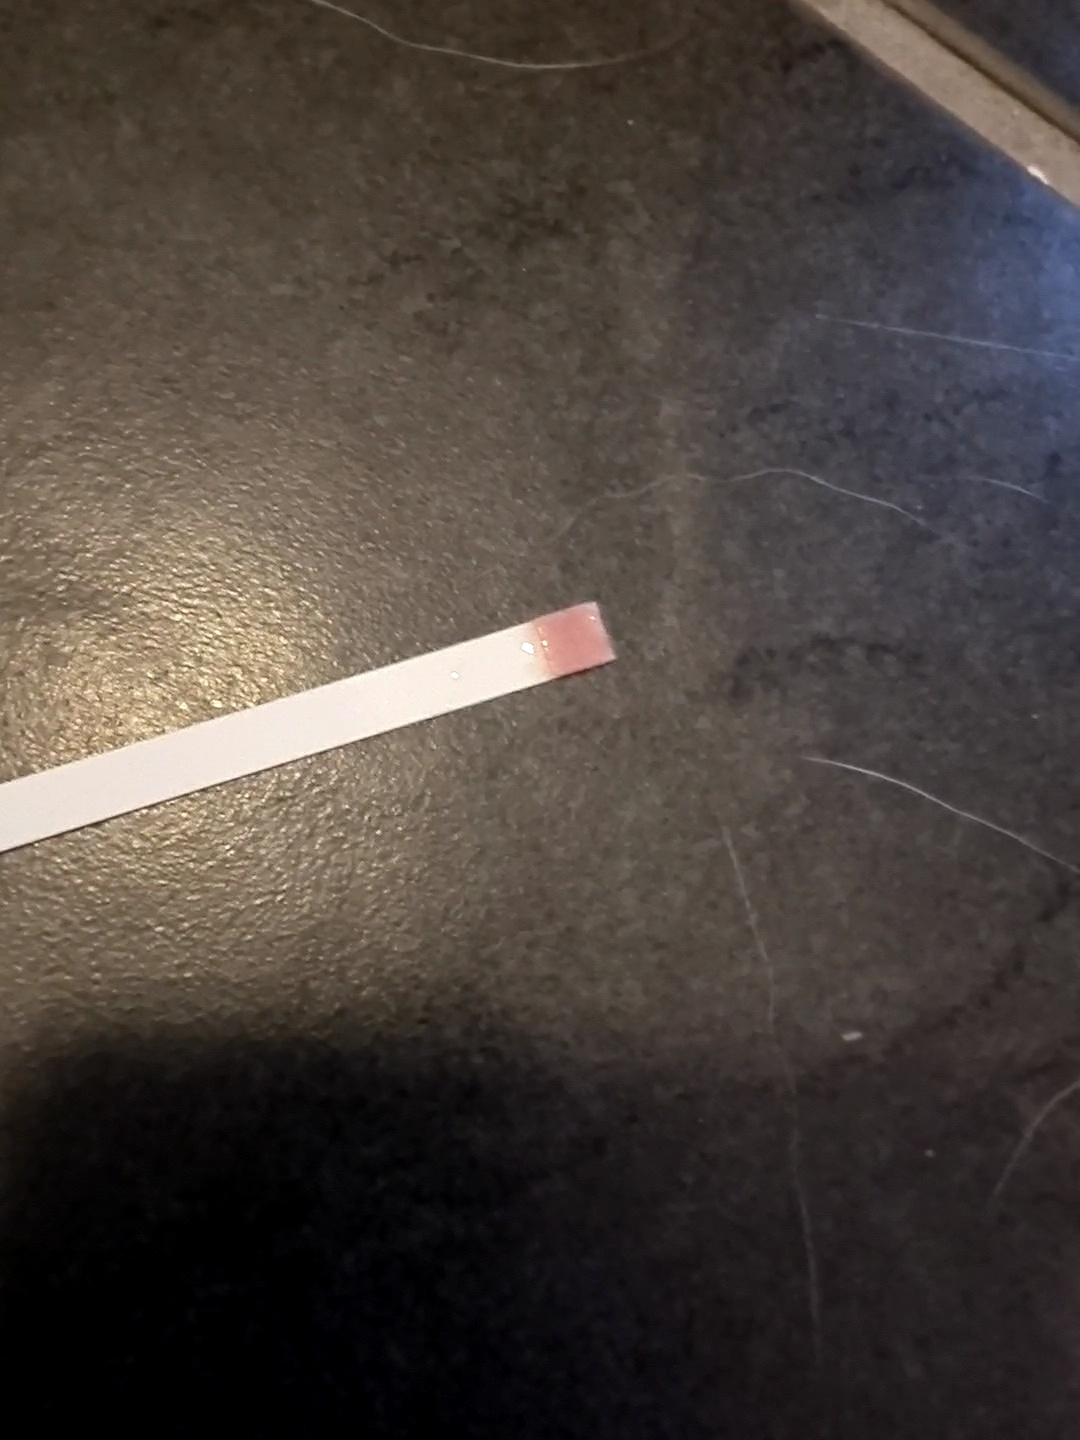keto-tip: (529, 598, 621, 684)
